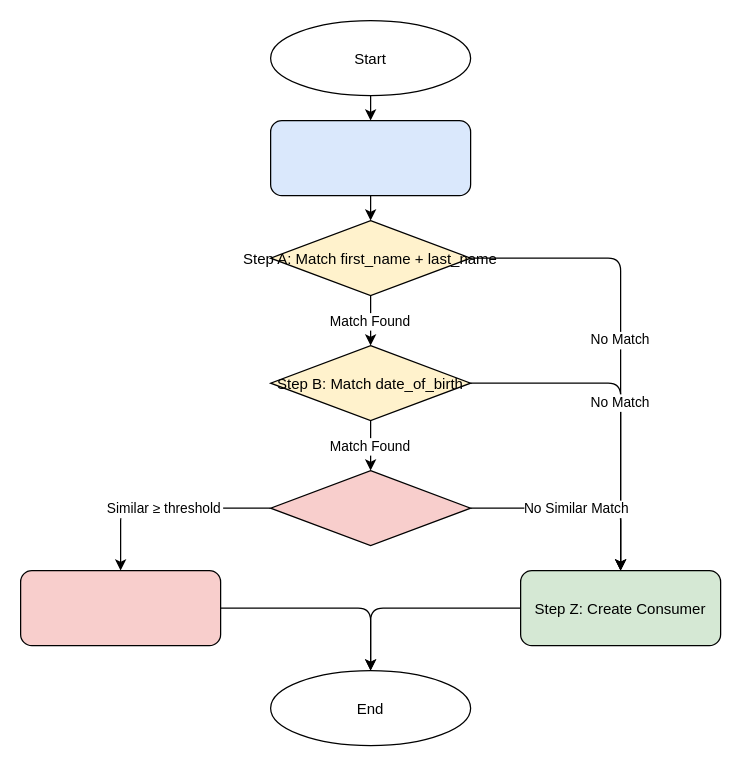
Some shapes in this 741 by 766 pixel diagram are drawn without their labels. The centre of each missing label's shape, as x and y in pixels:
Receive New Consumer Payload: (x=370, y=157)
Step C: Jaro-Winkler address match: (x=370, y=507)
Step X: Throw Duplicate Error: (x=120, y=607)
